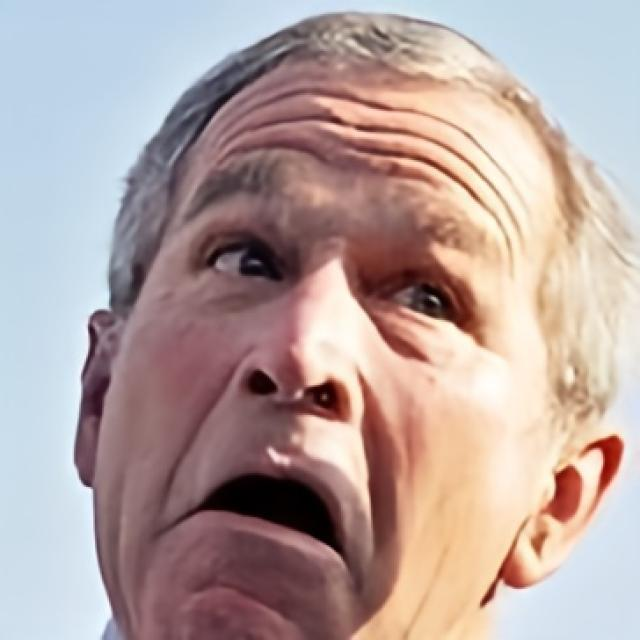fear: (93, 56, 568, 640)
